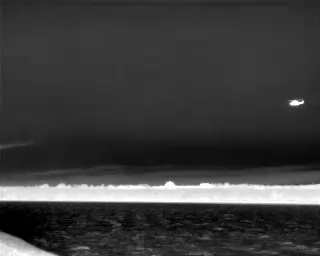HELICOPTER: (285, 94, 309, 112)
